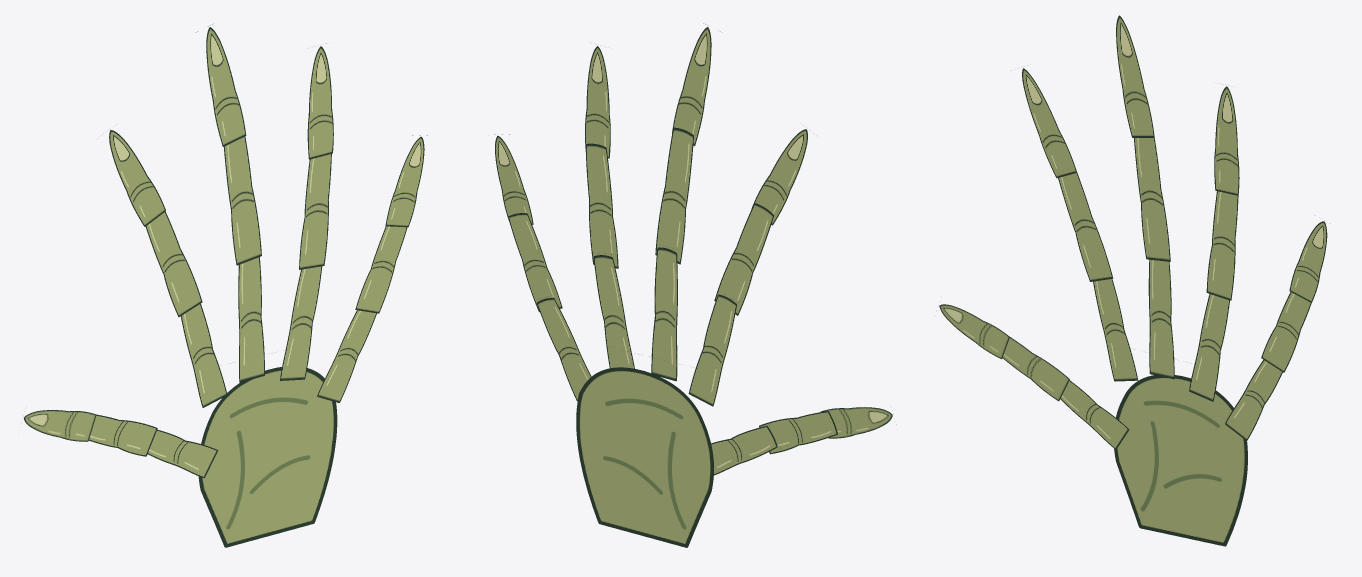
File: hand_0.glb
The picture shows the model from 3 angles, left to right: view 1: azimuth 30°, elevation 25°; view 2: azimuth 150°, elevation 25°; view 3: azimuth 330°, elevation 25°; orthographic projection. The views are drawn at different scales.
Visible parts, largest first — view 1: SH_hand0_palm, SH_hand0_middle_1, SH_hand0_middle_0, SH_hand0_ring_1, SH_hand0_index_1, SH_hand0_ring_0, SH_hand0_middle_2, SH_hand0_index_0, SH_hand0_ring_2, SH_hand0_index_2, SH_hand0_little_0, SH_hand0_little_1 (+4 smaller); view 2: SH_hand0_palm, SH_hand0_middle_1, SH_hand0_middle_0, SH_hand0_ring_1, SH_hand0_index_1, SH_hand0_index_0, SH_hand0_ring_0, SH_hand0_middle_2, SH_hand0_little_1, SH_hand0_little_0, SH_hand0_index_2, SH_hand0_ring_2 (+4 smaller); view 3: SH_hand0_palm, SH_hand0_middle_1, SH_hand0_middle_0, SH_hand0_ring_1, SH_hand0_index_1, SH_hand0_ring_0, SH_hand0_middle_2, SH_hand0_index_0, SH_hand0_ring_2, SH_hand0_index_2, SH_hand0_little_0, SH_hand0_little_1 (+4 smaller).
Boxes of the visible parts, bbox=[...] form: SH_hand0_palm: bbox=[198, 367, 337, 547]; SH_hand0_middle_1: bbox=[224, 136, 261, 265]; SH_hand0_middle_0: bbox=[238, 257, 264, 382]; SH_hand0_ring_1: bbox=[299, 154, 331, 269]; SH_hand0_index_1: bbox=[145, 211, 202, 317]; SH_hand0_ring_0: bbox=[280, 266, 322, 380]; SH_hand0_middle_2: bbox=[195, 24, 246, 146]; SH_hand0_index_0: bbox=[181, 303, 227, 407]; SH_hand0_ring_2: bbox=[307, 46, 333, 159]; SH_hand0_index_2: bbox=[109, 130, 165, 226]; SH_hand0_little_0: bbox=[317, 310, 376, 402]; SH_hand0_little_1: bbox=[355, 226, 407, 313]; SH_hand0_palm: bbox=[576, 367, 713, 547]; SH_hand0_middle_1: bbox=[655, 127, 693, 264]; SH_hand0_middle_0: bbox=[651, 247, 677, 381]; SH_hand0_ring_1: bbox=[585, 143, 618, 268]; SH_hand0_index_1: bbox=[714, 203, 773, 315]; SH_hand0_index_0: bbox=[688, 294, 736, 406]; SH_hand0_ring_0: bbox=[592, 253, 634, 368]; SH_hand0_middle_2: bbox=[672, 23, 720, 145]; SH_hand0_little_1: bbox=[508, 213, 562, 312]; SH_hand0_little_0: bbox=[536, 297, 591, 401]; SH_hand0_index_2: bbox=[751, 129, 807, 225]; SH_hand0_ring_2: bbox=[585, 46, 610, 158]; SH_hand0_palm: bbox=[1114, 375, 1247, 546]; SH_hand0_middle_1: bbox=[1134, 138, 1170, 261]; SH_hand0_middle_0: bbox=[1148, 259, 1174, 379]; SH_hand0_ring_1: bbox=[1206, 191, 1238, 300]; SH_hand0_index_1: bbox=[1058, 172, 1113, 281]; SH_hand0_ring_0: bbox=[1189, 294, 1229, 401]; SH_hand0_middle_2: bbox=[1116, 15, 1154, 137]; SH_hand0_index_0: bbox=[1093, 279, 1138, 381]; SH_hand0_ring_2: bbox=[1214, 86, 1239, 195]; SH_hand0_index_2: bbox=[1022, 68, 1076, 178]; SH_hand0_little_0: bbox=[1225, 359, 1282, 440]; SH_hand0_little_1: bbox=[1261, 292, 1311, 372].
Size of the model in its own units: 0.2786 by 0.3319 by 0.003.
1 material, 1 textured.
